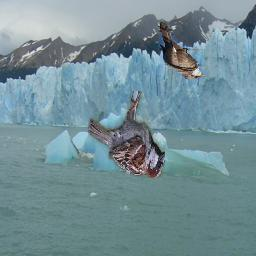Cuckoo: (158, 21, 206, 79)
Sparrow: (89, 92, 166, 179)
